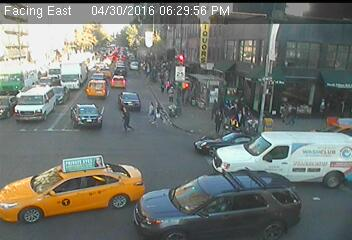neg: (242, 160, 278, 208), (295, 36, 327, 80), (253, 54, 283, 94), (53, 150, 80, 186), (175, 159, 202, 195), (40, 86, 65, 120), (109, 39, 133, 70), (44, 46, 63, 71), (181, 42, 197, 64)
pos: (116, 103, 137, 130), (213, 105, 231, 129), (142, 100, 156, 120), (234, 110, 247, 127)
